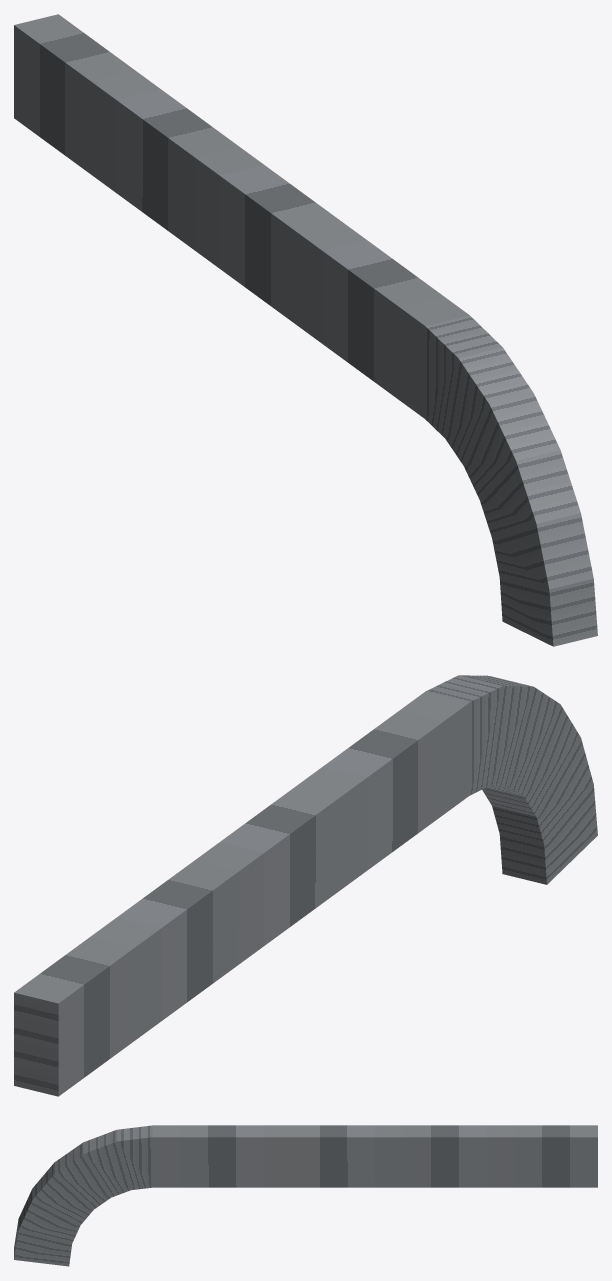
Rendered from sectional_track_ccw_1.obj.
3 renders of one model, top to bottom at view 1: azimuth 30°, elevation 25°; view 2: azimuth 150°, elevation 25°; view 3: azimuth 270°, elevation 25°, orthographic. The views are drawn at different scales.
Visible parts, largest first — view 1: track; view 2: track; view 3: track.
Part boxes in pixels (left/top/right/bottom): track: left=14, top=14, right=597, bottom=646; track: left=14, top=675, right=597, bottom=1096; track: left=14, top=1125, right=597, bottom=1266.
Size of the model in its own units: 0.0938 by 0.481 by 1.97.
